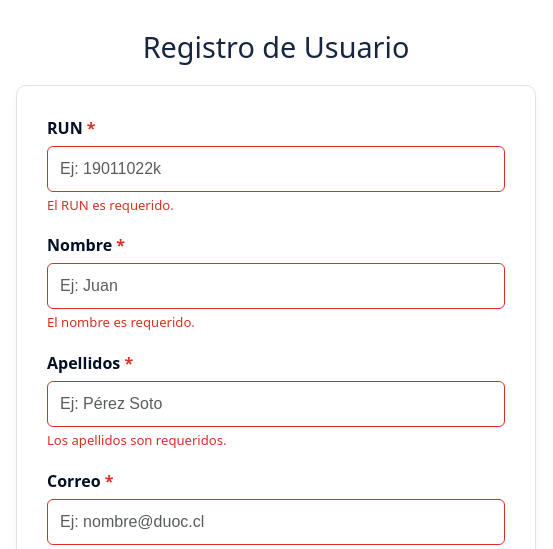
Test: Test 2 - Gestión de estado en el formulario › Registro actualiza el valor del input y filtra comunas según la región
The width and height of the screenshot is (553, 549).
Type "Juan" into the field labelled "Nombre *" at [276, 286], box top-left (47, 263), bottom-right (505, 309)
(page scrolled)
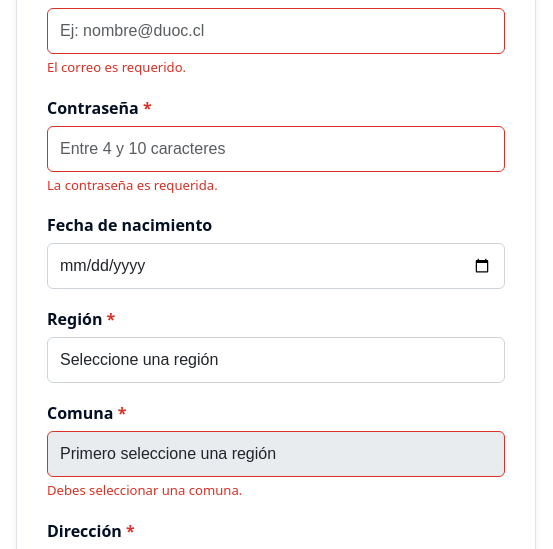
Select "Región Metropolitana de Santiago" in the dropdown labelled "Región *" at [276, 360], box top-left (47, 337), bottom-right (505, 383)
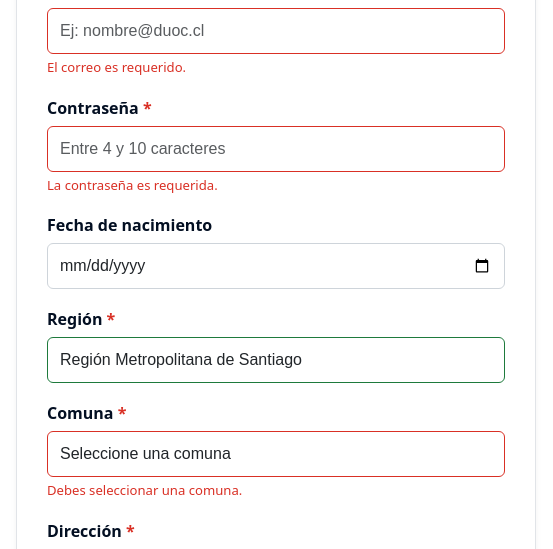
Now the dropdown labelled "Comuna *" is enabled, box top-left (47, 431), bottom-right (505, 477)
